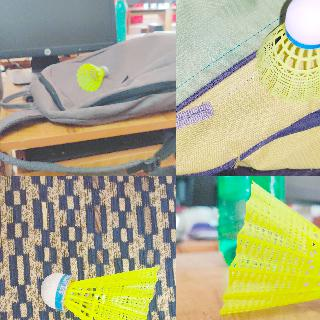shuttlecock: (218, 178, 319, 314), (254, 0, 319, 102), (39, 267, 161, 319), (75, 62, 108, 90)
